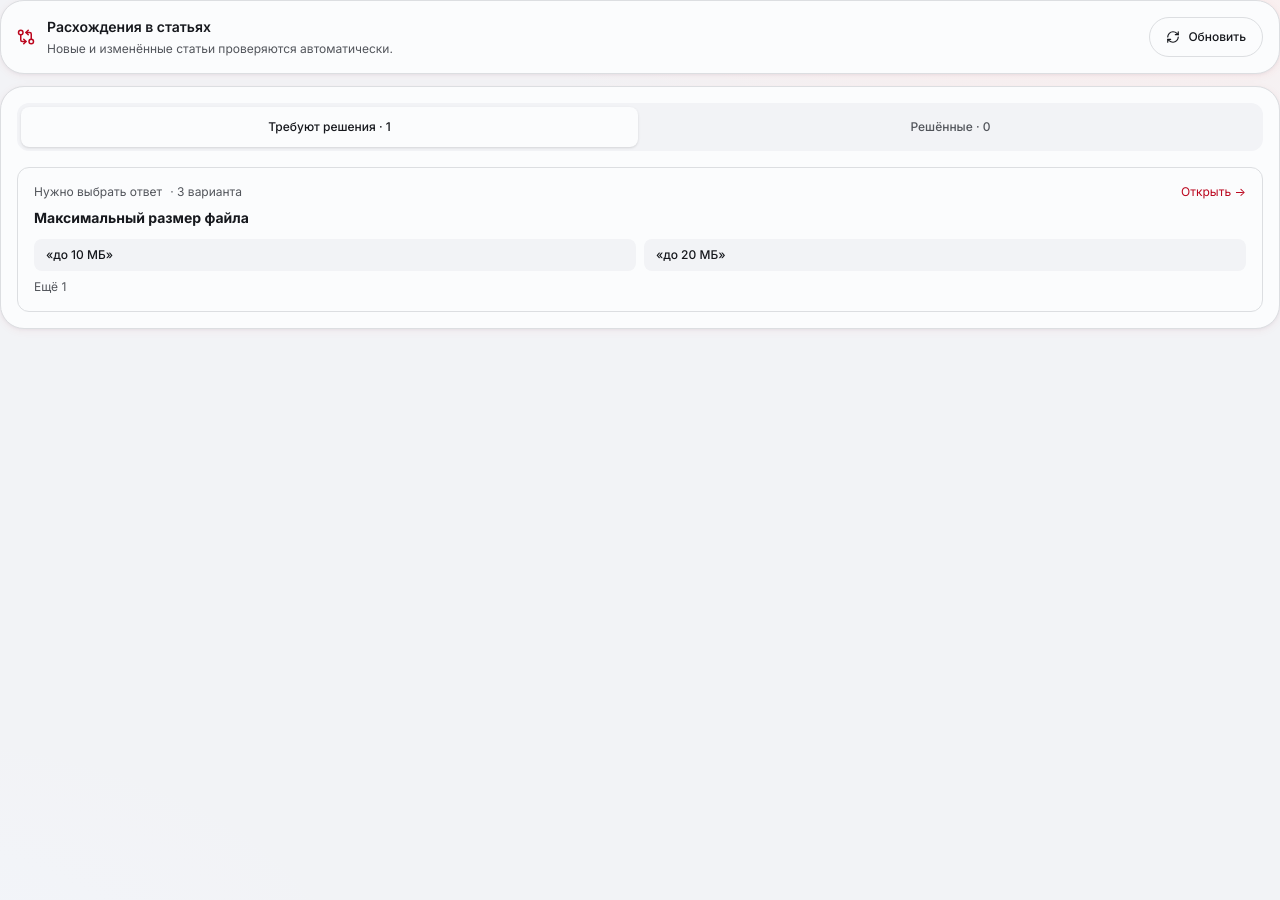
Test: Расхождения в статьях › сохраняет третий вариант для всей группы
Click the button "Максимальный размер файла". click: (640, 240)
box: [17,167,1263,312]
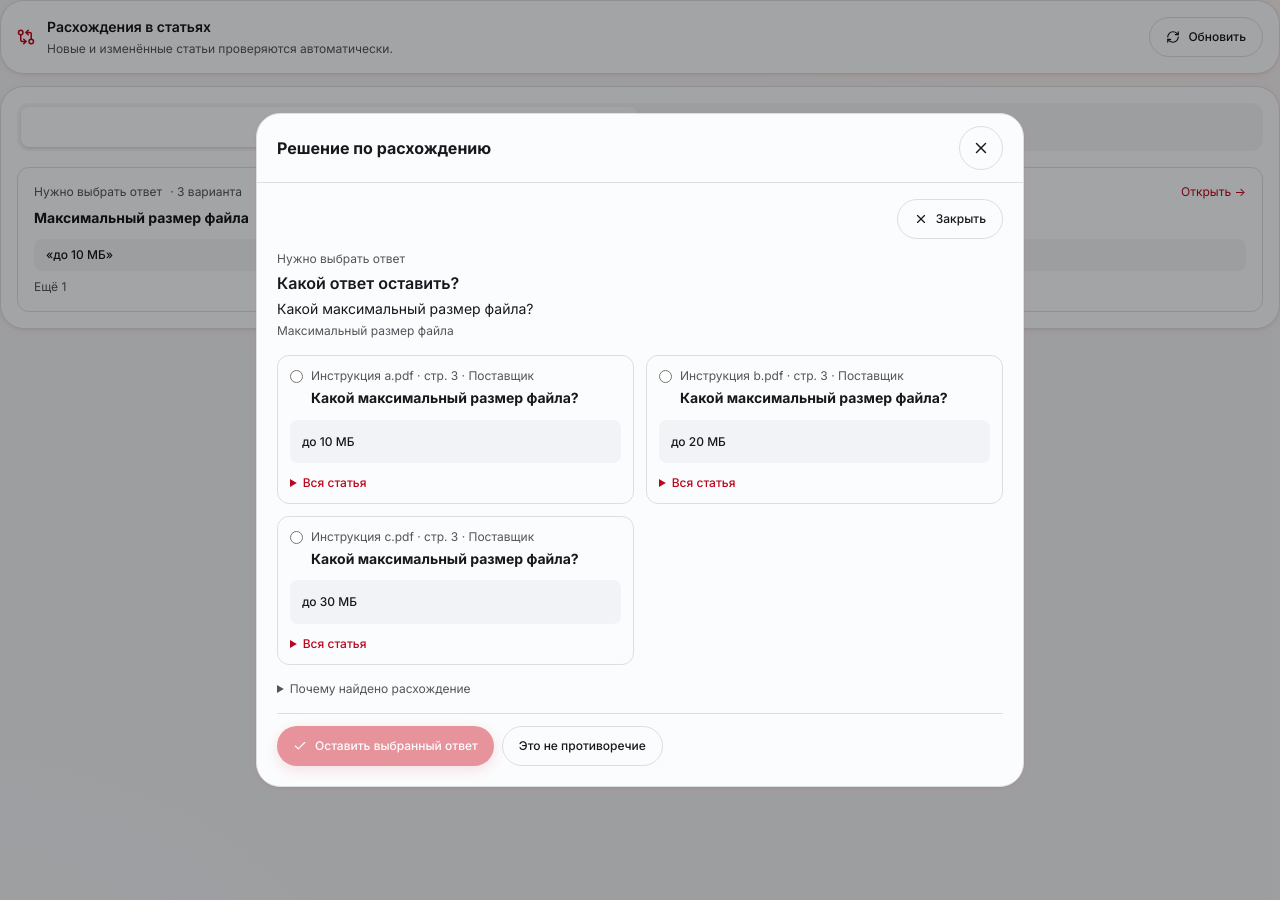
Now the number of radio buttons is 3
Now the button "Оставить выбранный ответ" is disabled, box [277,726,494,766]
Click the radio button labelled "Инструкция c.pdf". click: (296, 538)
box: [290,531,303,544]
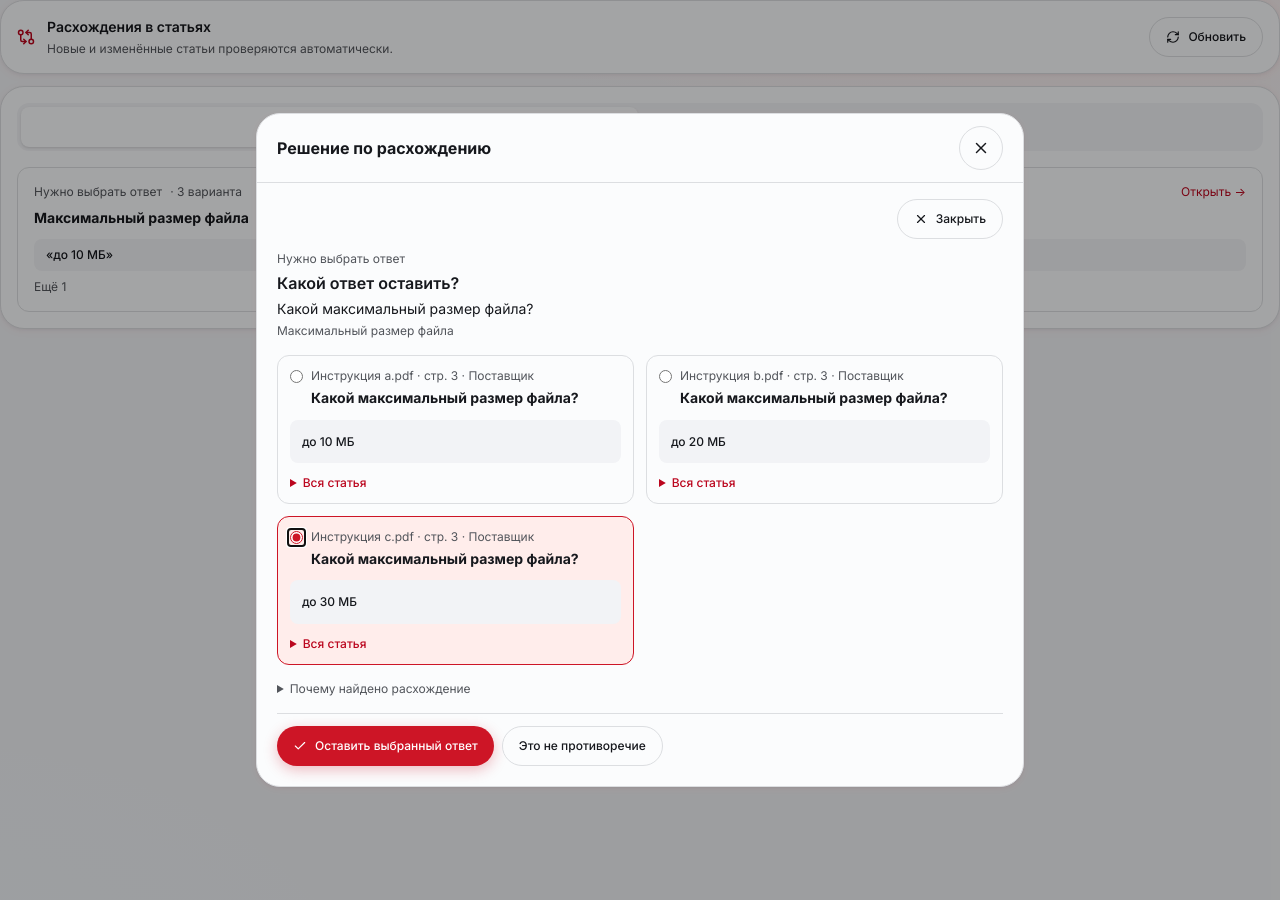
Click the button "Оставить выбранный ответ". click: (385, 746)
box: [277,726,494,766]
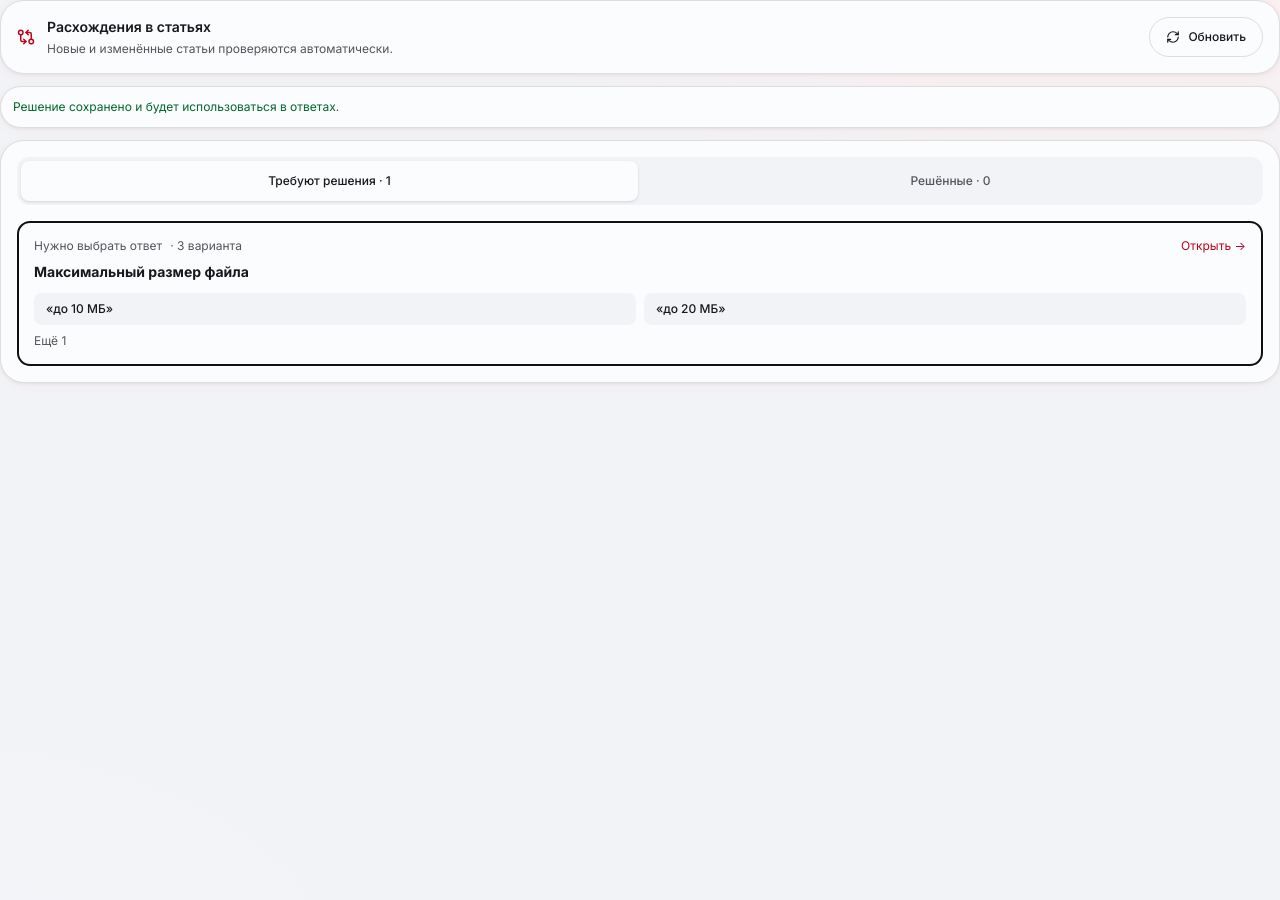
Now the text "Решение сохранено и будет использоваться в ответах." is shown, box [0,86,1279,128]
